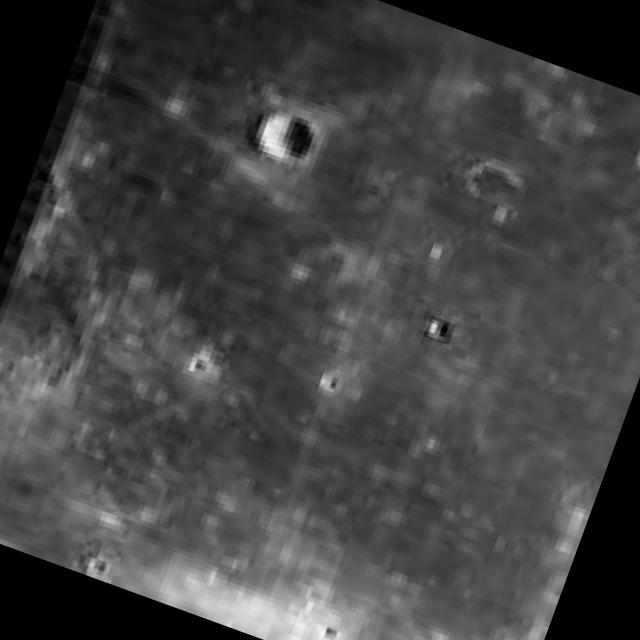crater: (250, 109, 320, 174), (422, 316, 456, 346)
